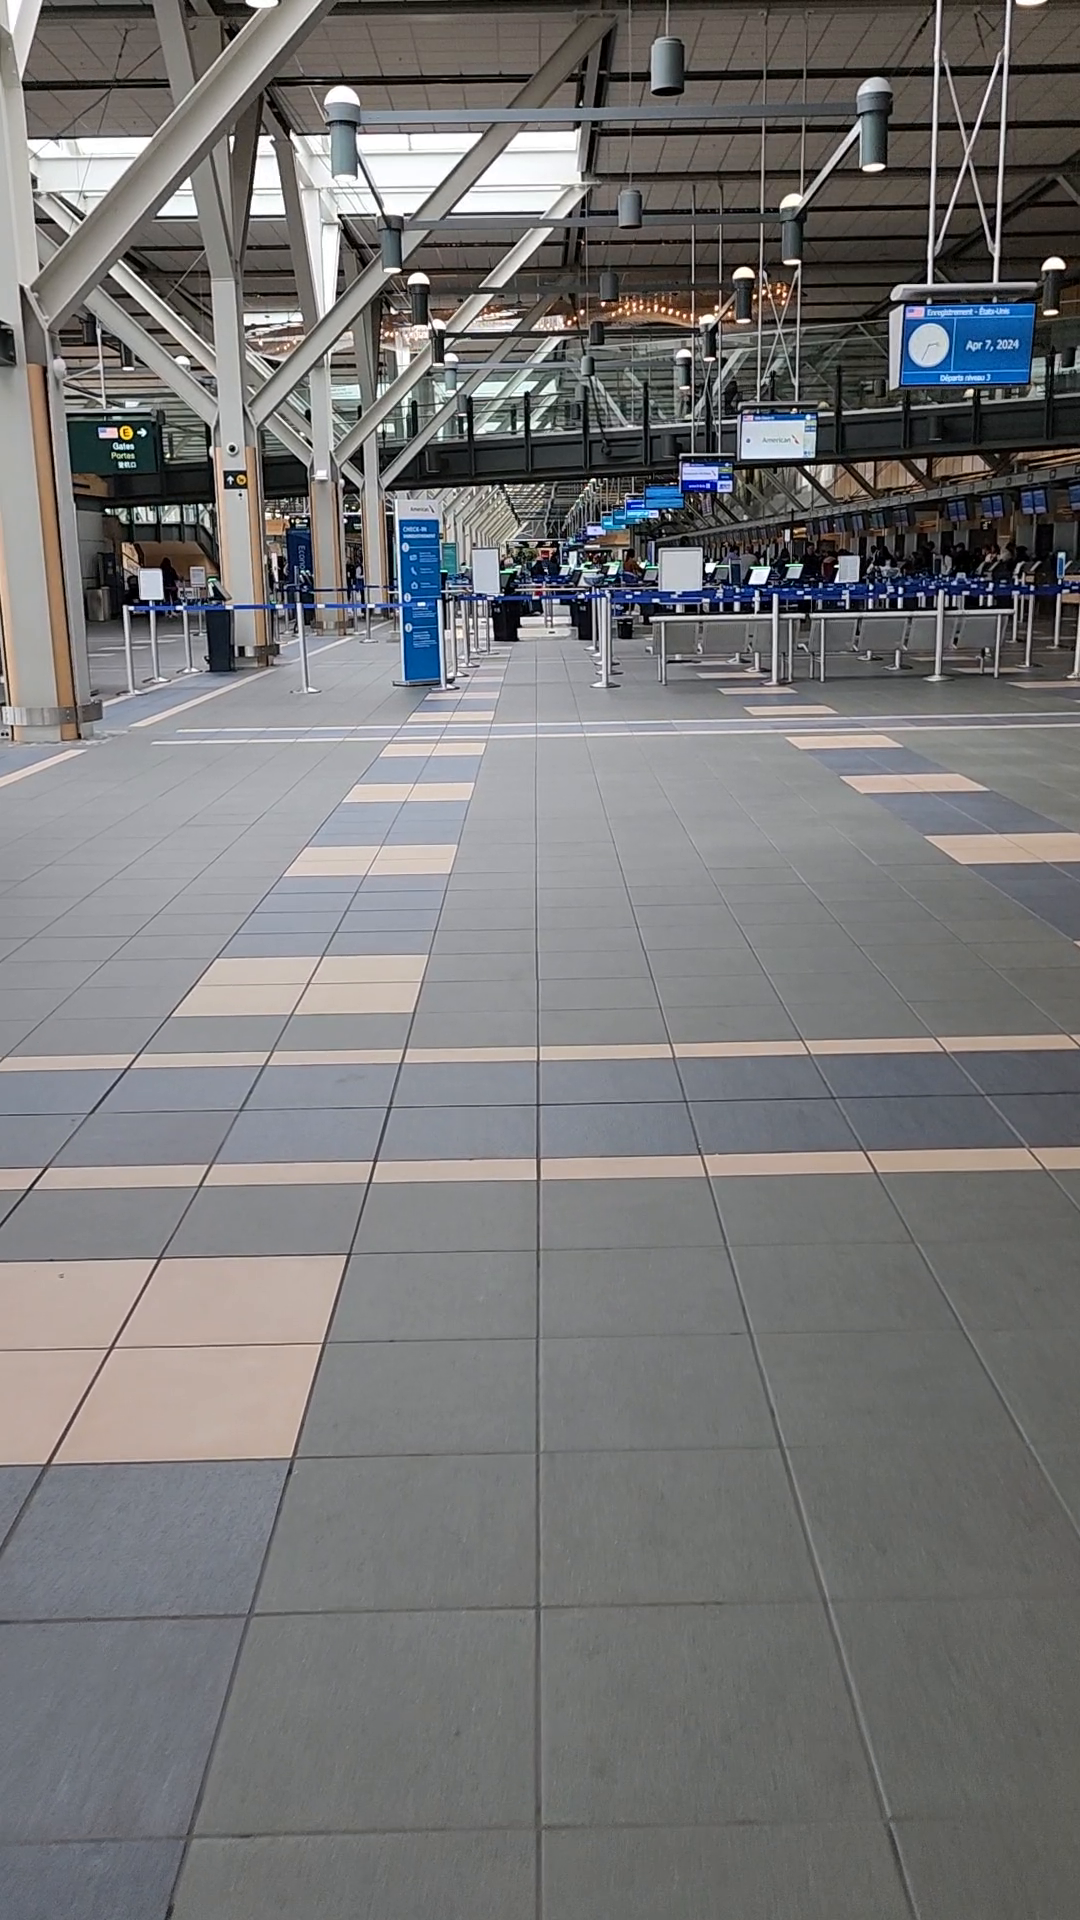Defect: (844, 66, 902, 94)
Stain: (96, 1116, 214, 1168), (326, 1064, 376, 1093), (51, 1265, 71, 1294)
